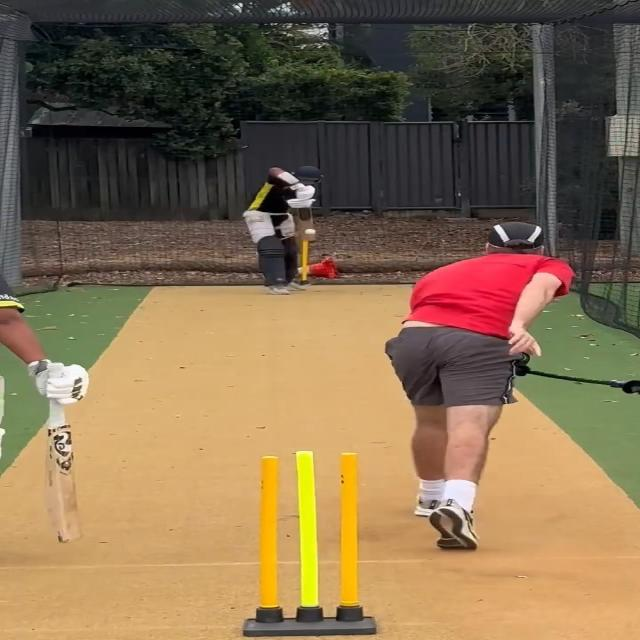ball: (303, 226, 318, 236)
stump: (245, 451, 375, 638)
